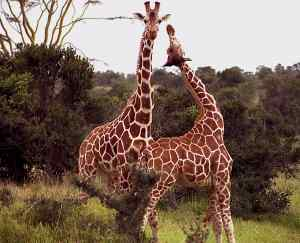Jirafa: (124, 2, 169, 48), (165, 23, 194, 84)
